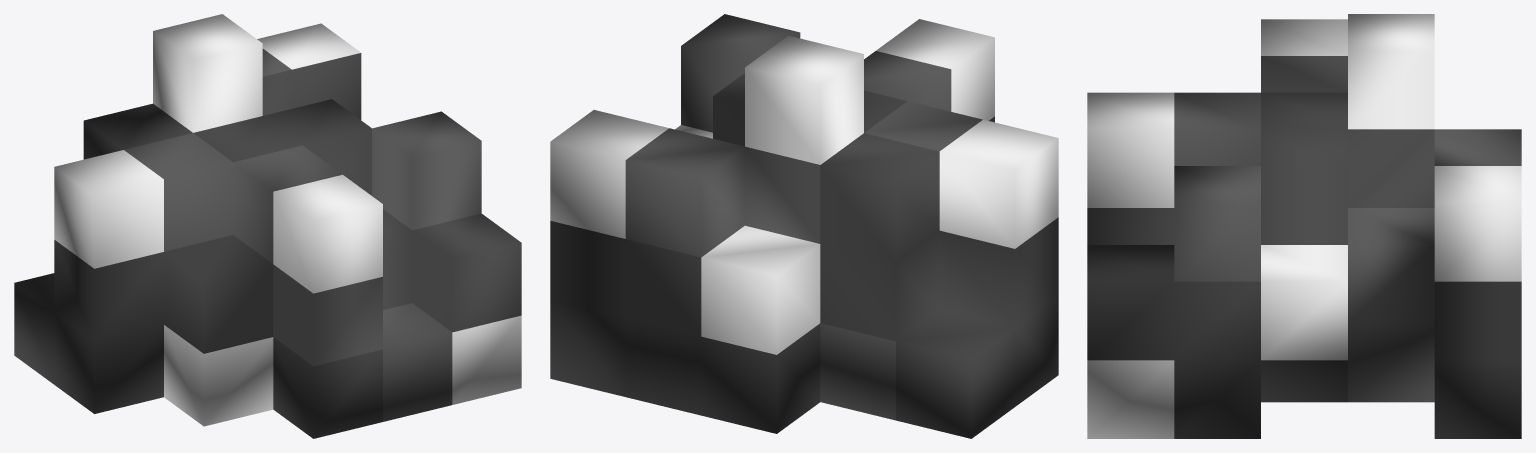
Rendered from MetalResource.fbx.
The picture shows the model from 3 angles, left to right: view 1: azimuth 30°, elevation 25°; view 2: azimuth 150°, elevation 25°; view 3: azimuth 270°, elevation 25°; orthographic projection. The views are drawn at different scales.
Parts seen in each view (by area): view 1: MetalResource; view 2: MetalResource; view 3: MetalResource.
Part boxes in pixels (<box>): MetalResource: <box>14,14,521,438</box>; MetalResource: <box>550,14,1058,438</box>; MetalResource: <box>1087,14,1521,438</box>.
Size of the model in its own units: 0.5 by 0.4 by 0.5.
